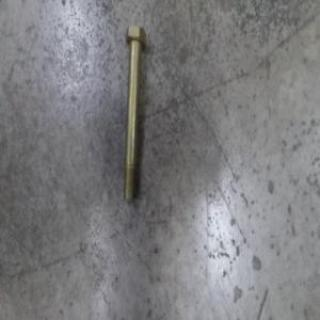Bolttrack_idkeyframe: (120, 21, 146, 204)
